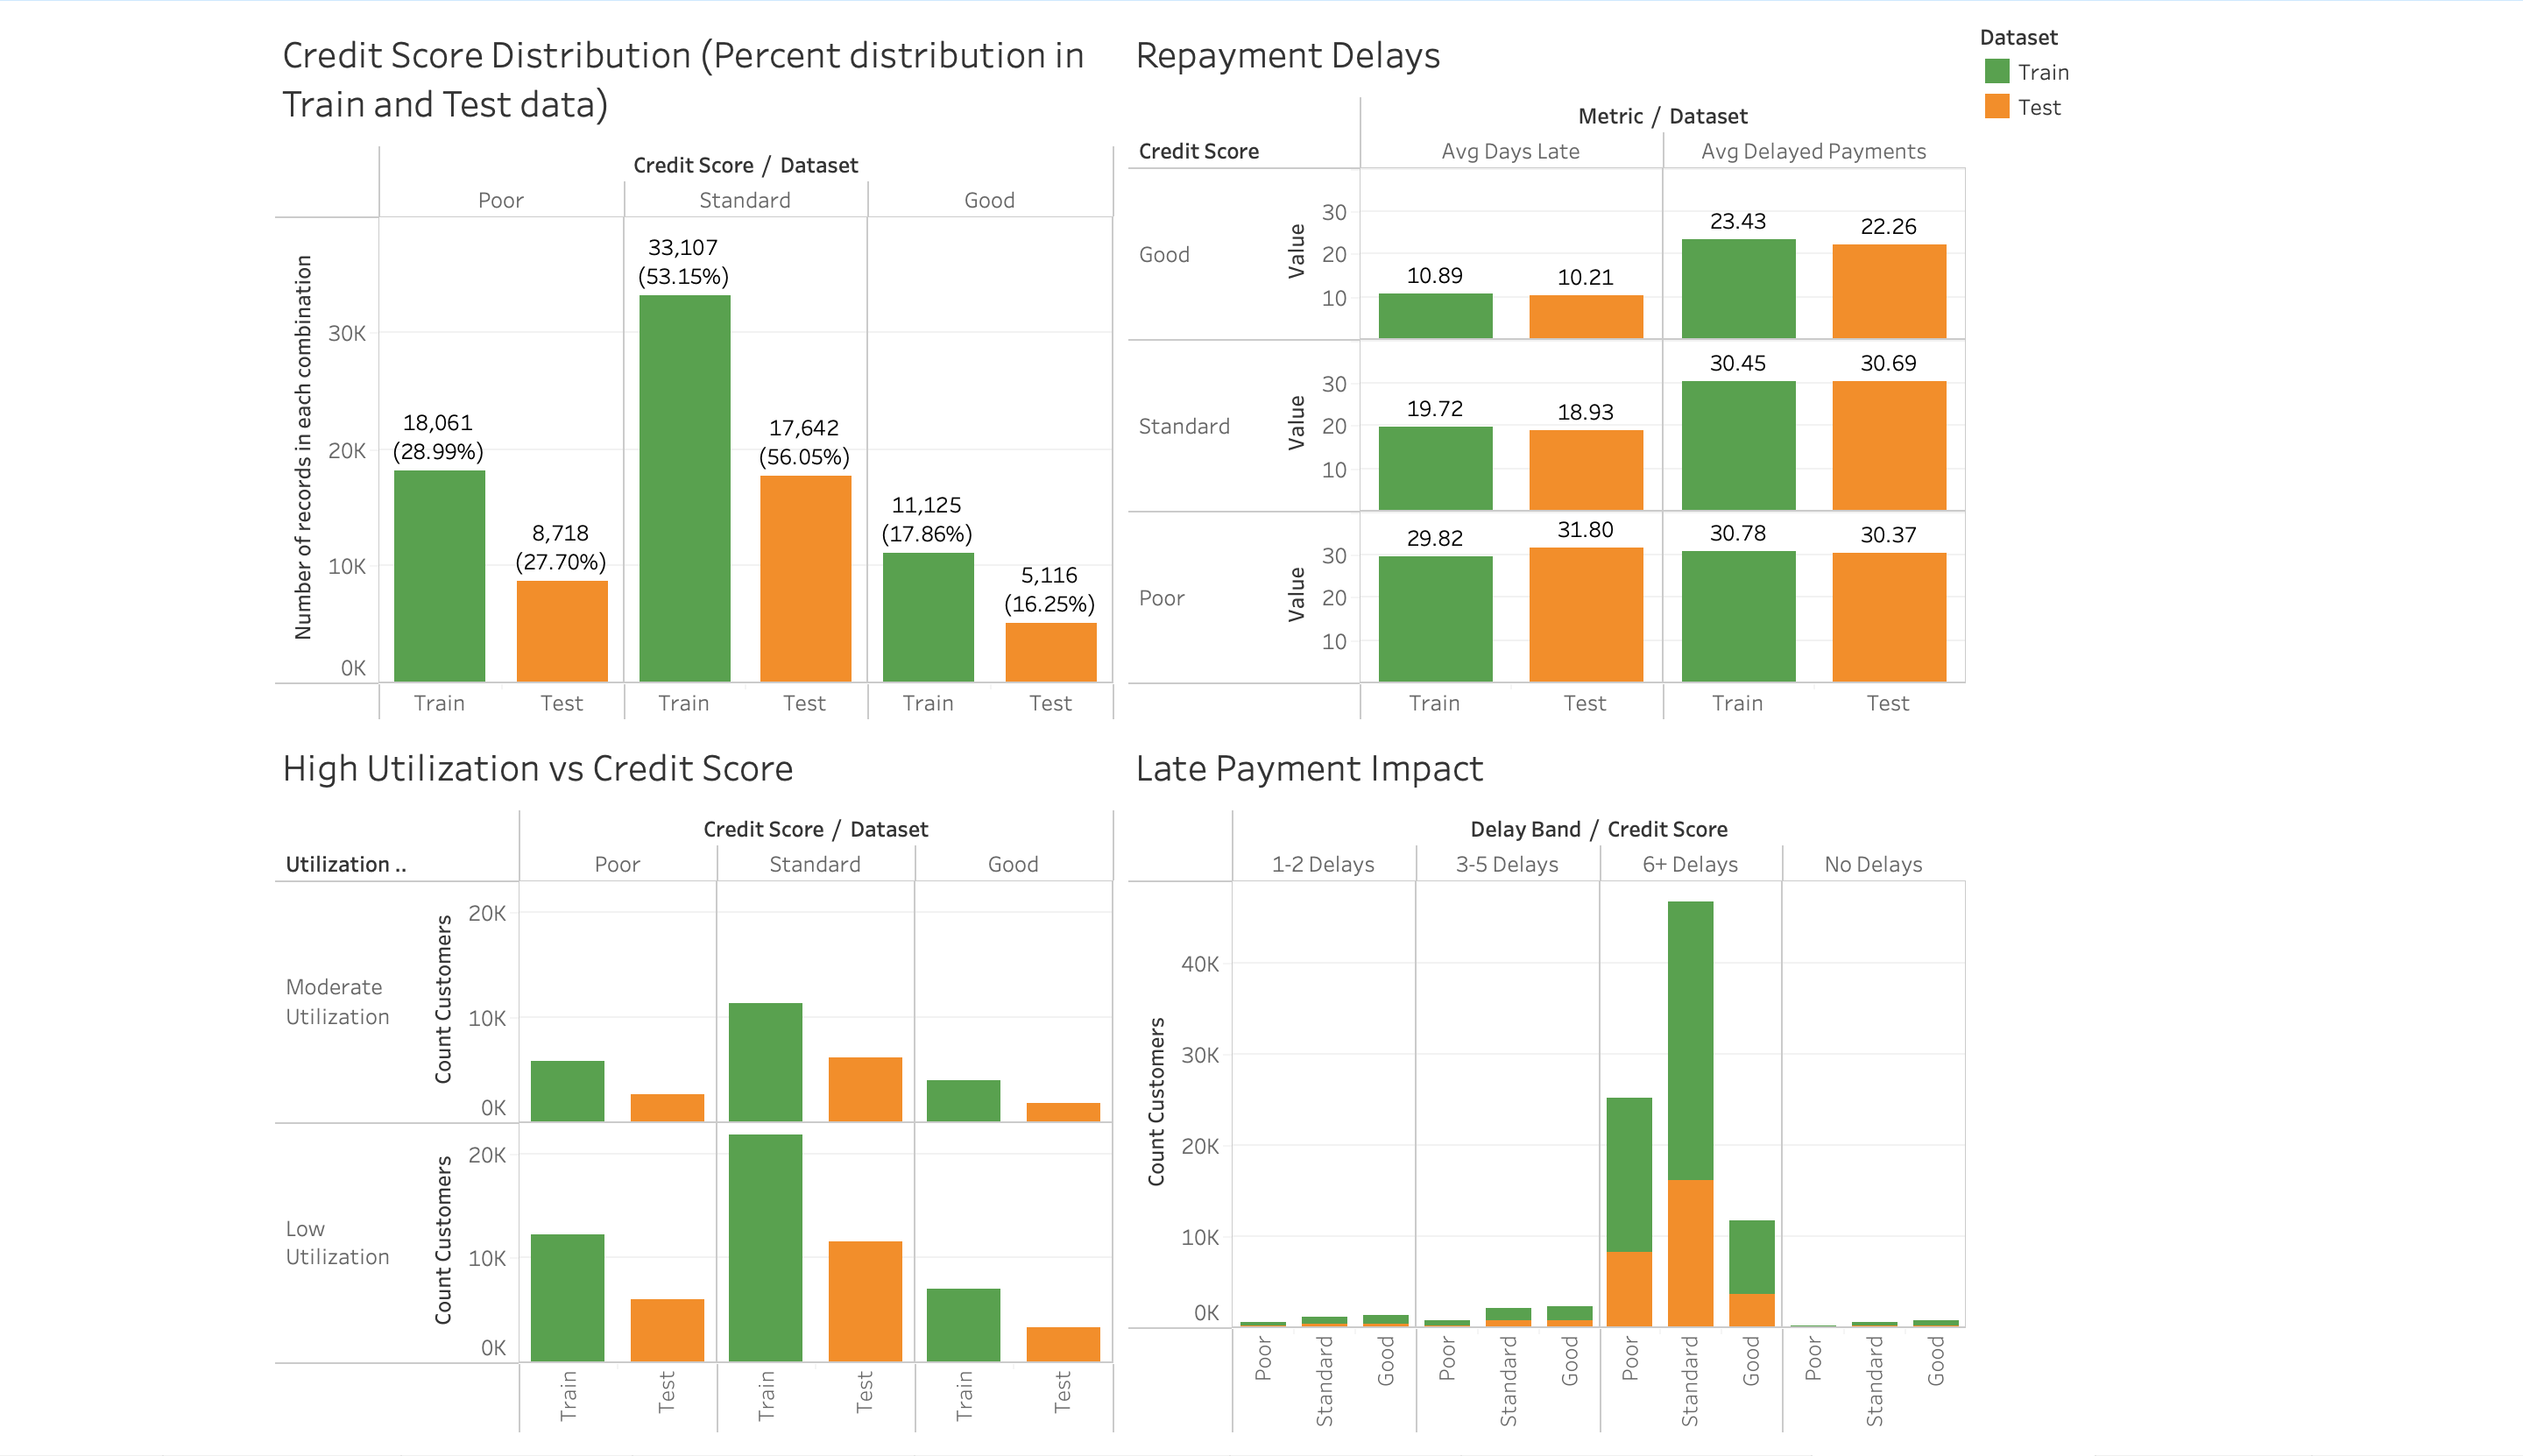

What the dashboard file says about the page in this screenshot:
{"tool":"tableau","page":{"name":"Behavior & Repayment","canvas":[1000,1000],"units":"permille","ordinal":0},"visuals":[{"type":"worksheet","title":"Credit Score Distribution (Percent distribution in Train and Test data) ","mark":"Bar","rows":["Count"],"cols":["Credit_Score","Dataset"],"box":[7,10.4,423.2,489.6]},{"type":"worksheet","title":"Repayment Delays","mark":"Bar","rows":["Credit_Score","Pivot Field Values"],"cols":["Pivot Field Names","Dataset"],"box":[430.2,10.4,423.2,489.6]},{"type":"legend","title":"Credit Score Distribution (Percent distribution in Train and Test data) ","param":"[federated.17dn4we1willxa1gfcpd10cd2na3].[none:Dataset:nk]","box":[853.4,10.4,139.6,85.9]},{"type":"worksheet","title":"High Utilization vs Credit Score","mark":"Bar","rows":["Utilization_Band","Count_Customers"],"cols":["Credit_Score","Dataset"],"box":[7,500,423.2,489.6]},{"type":"worksheet","title":"Late Payment Impact","mark":"Automatic","rows":["Count_Customers"],"cols":["Delay_Band","Credit_Score"],"box":[430.2,500,423.2,489.6]}]}

Visuals, with their boxes on the dashboard's canvas, which has no fixed pixel size, in thousandths of its width and height (x1, y1, x2, y2). These are canvas units, not pixel positions in the 2523x1456 screenshot, which may show the page scaled, cropped or inside an application window:
"Credit Score Distribution (Percent distribution in Train and Test data) " worksheet (Bar marks): {"left": 7, "top": 10, "right": 430, "bottom": 500}
"Repayment Delays" worksheet (Bar marks): {"left": 430, "top": 10, "right": 853, "bottom": 500}
"Credit Score Distribution (Percent distribution in Train and Test data) " legend: {"left": 853, "top": 10, "right": 993, "bottom": 96}
"High Utilization vs Credit Score" worksheet (Bar marks): {"left": 7, "top": 500, "right": 430, "bottom": 990}
"Late Payment Impact" worksheet: {"left": 430, "top": 500, "right": 853, "bottom": 990}
